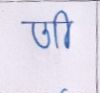i_matra: (57, 10, 73, 48)
